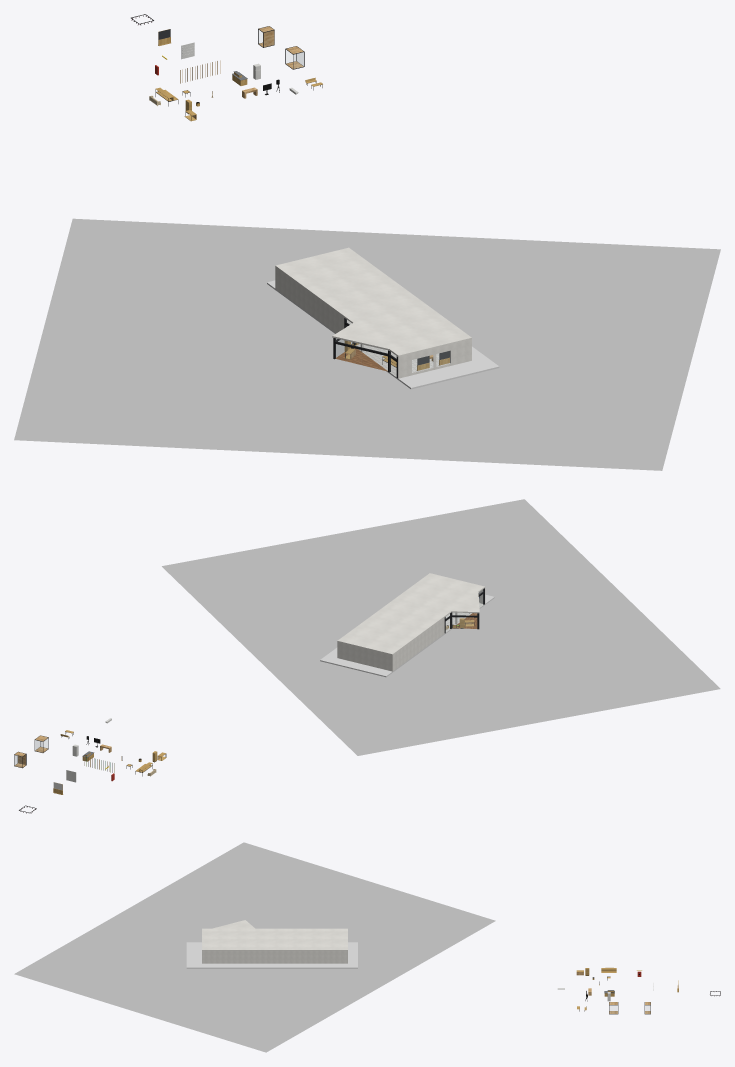
File: Sebrae Lab.fbx
3 renders of one model, top to bottom at view 1: azimuth 30°, elevation 25°; view 2: azimuth 150°, elevation 25°; view 3: azimuth 270°, elevation 25°, orthographic. The views are drawn at different scales.
Parts seen in each view (by area): view 1: chrome_ZM4gYUEhi6, Teto, Base, Entrada; view 2: chrome_ZM4gYUEhi6, Teto, Base, Entrada; view 3: chrome_ZM4gYUEhi6, Teto, Base.
Boxes of the visible parts, x1,y1,x2,y2 form: chrome_ZM4gYUEhi6: (14, 218, 720, 470); Teto: (275, 247, 471, 356); Base: (267, 267, 499, 389); Entrada: (333, 318, 397, 378); chrome_ZM4gYUEhi6: (162, 499, 720, 755); Teto: (337, 573, 485, 655); Base: (320, 588, 494, 677); Entrada: (444, 588, 484, 633); chrome_ZM4gYUEhi6: (14, 842, 495, 1052); Teto: (202, 920, 347, 950); Base: (186, 942, 357, 968).
Bounding box in the file's own units: 9890 × 329 × 14047.
